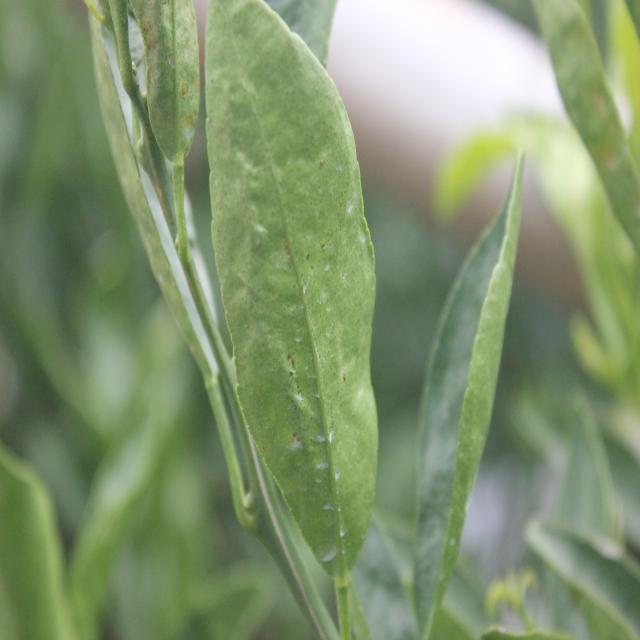canker: (260, 172, 363, 524), (142, 2, 197, 138)
